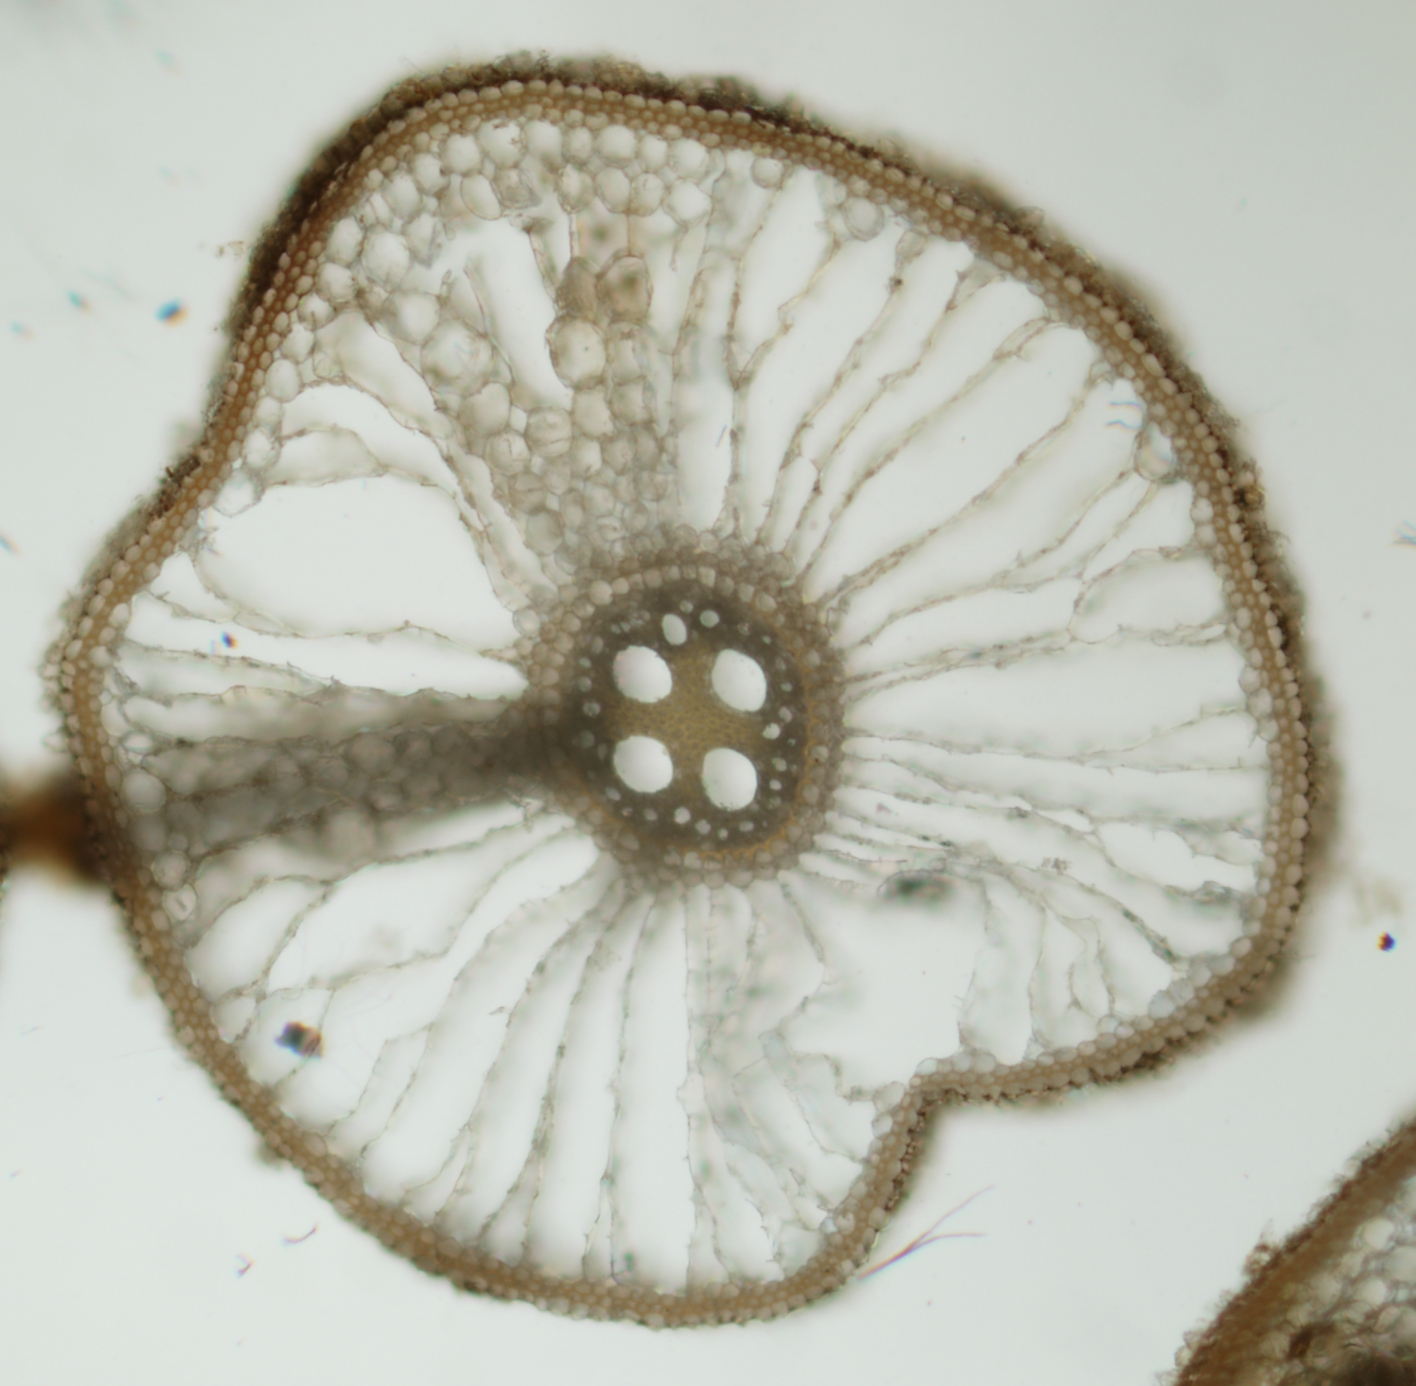lm: (612, 643, 672, 704), (700, 748, 757, 811), (613, 735, 672, 793), (711, 649, 766, 711)
